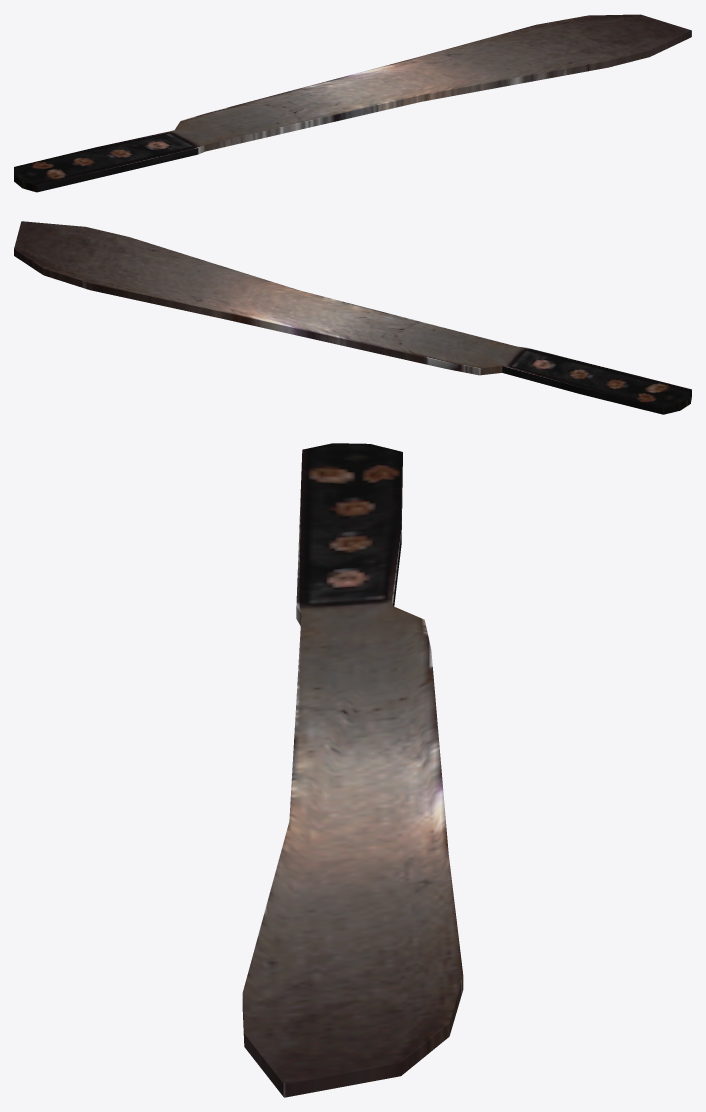
File: machete 1.glb
3 views of the same model, one above another, from view 1: azimuth 30°, elevation 25°; view 2: azimuth 150°, elevation 25°; view 3: azimuth 270°, elevation 25° (orthographic). The views are drawn at different scales.
Visible parts, largest first — view 1: 平面; view 2: 平面; view 3: 平面.
Boxes of the visible parts, left/top/right/bottom form: 平面: left=14, top=14, right=691, bottom=192; 平面: left=14, top=221, right=691, bottom=414; 平面: left=242, top=443, right=463, bottom=1097.
Bounding box in the file's own units: 4.99 × 0.0478 × 0.7263.
1 material, 1 textured.
